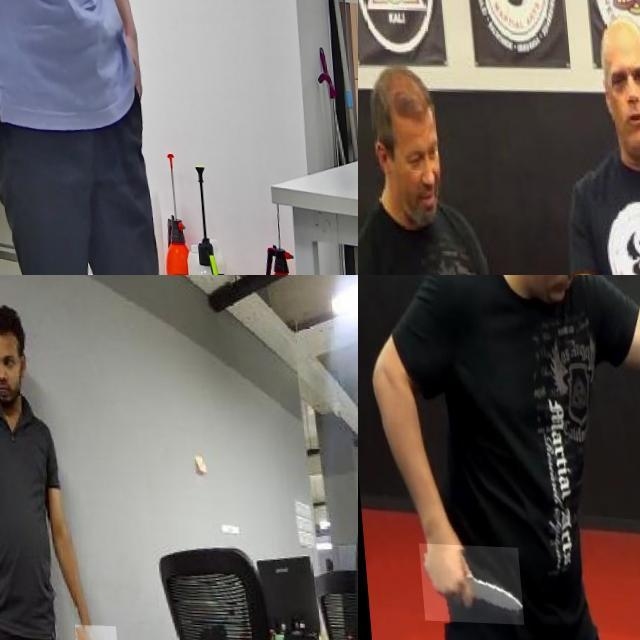-: (412, 543, 516, 623)
gun-knife-thesis - v11 Yolov5 augmented: (40, 0, 163, 68)
